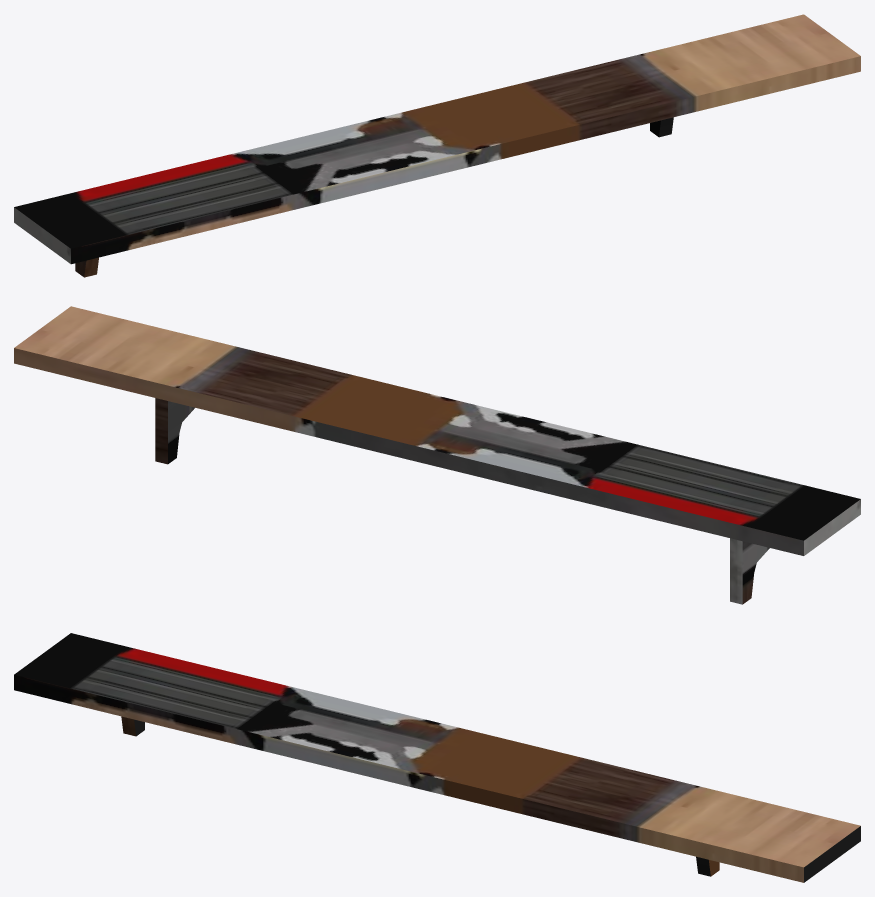
The model's file is kitchen-shelf.glb.
3 renders of one model, top to bottom at view 1: azimuth 30°, elevation 25°; view 2: azimuth 150°, elevation 25°; view 3: azimuth 330°, elevation 25°, orthographic.
Visible parts, largest first — view 1: SM_Shelf_Restaurant_0; view 2: SM_Shelf_Restaurant_0; view 3: SM_Shelf_Restaurant_0.
Part boxes in pixels (bbox=[...]): SM_Shelf_Restaurant_0: bbox=[14, 14, 860, 277]; SM_Shelf_Restaurant_0: bbox=[14, 306, 860, 604]; SM_Shelf_Restaurant_0: bbox=[14, 633, 860, 882].
Bounding box in the file's own units: 1.6 × 0.1527 × 0.2.
1 material, 1 textured.
